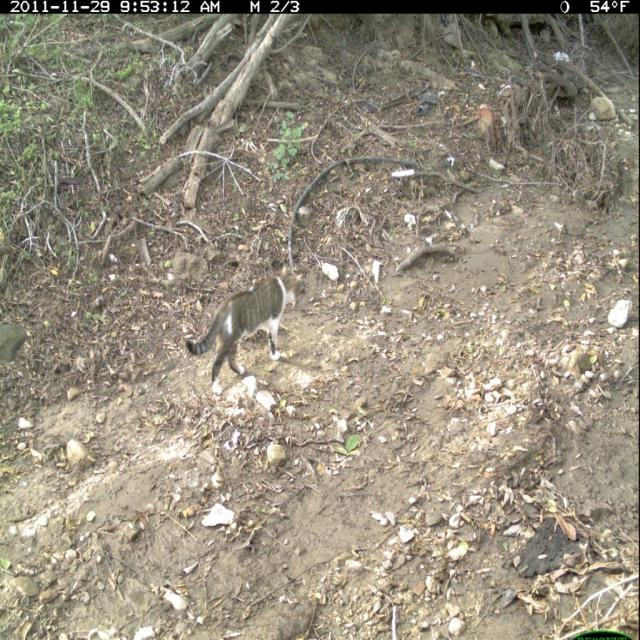cat: (180, 254, 313, 402)
